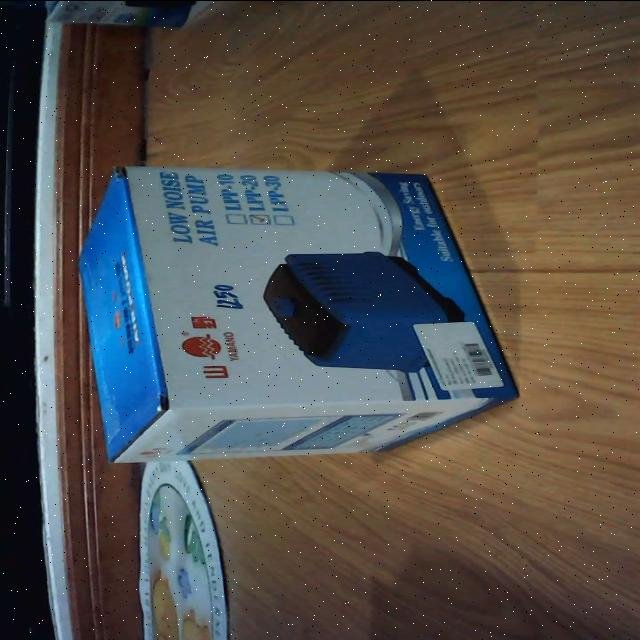YAMANO_LPP_20: (56, 164, 522, 470)
